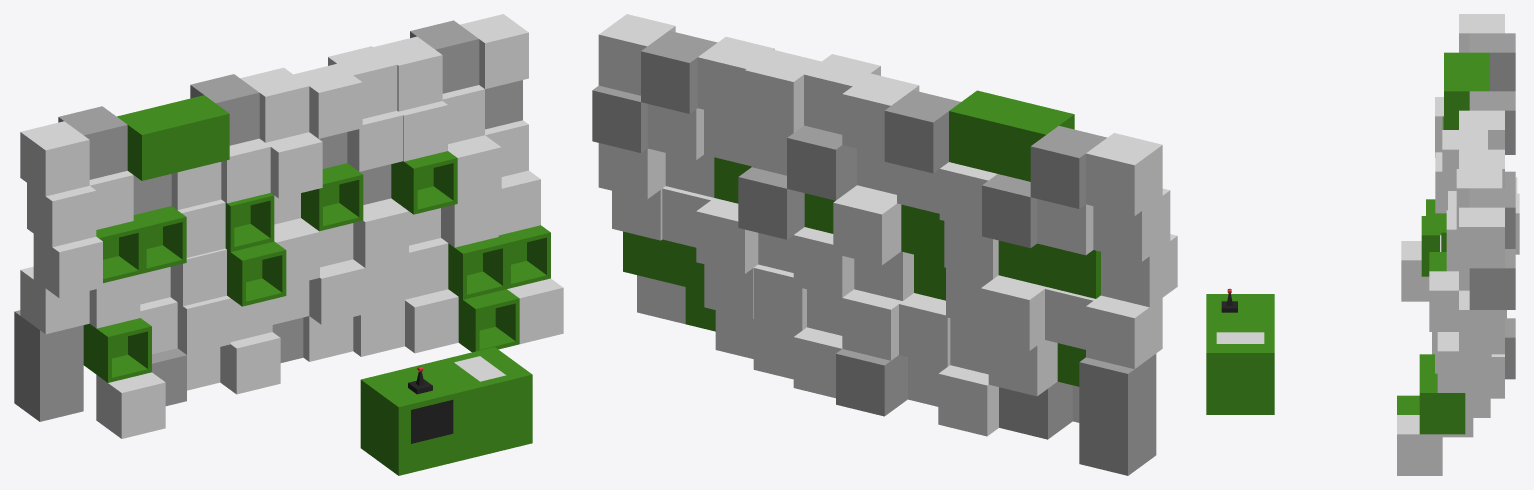
The model's file is Milestones.fbx.
3 renders of one model, left to right at view 1: azimuth 30°, elevation 25°; view 2: azimuth 150°, elevation 25°; view 3: azimuth 270°, elevation 25°, orthographic. The views are drawn at different scales.
Parts seen in each view (by area): view 1: Cube.068, Cube.005, Cube.006, Cube.017, Cube.007, Cube.041, Cube.004, Cube.003, Cube.035, Cube.051, Cube.065, Cube.054 (+55 smaller); view 2: Cube.005, Cube.029, Cube.002, Cube.033, Cube.047, Cube.001, Cube.059, Cube.040, Cube.011, Cube.014, Cube, Cube.030 (+53 smaller); view 3: Cube.068, Cube.065, Cube.062, Cube.060, Cube.061, Cube.064, Cube.063, Cube.011, Cube.057, Cube.023, Cube.041, Cube.006 (+18 smaller).
Part boxes in pixels (left/top/right/bottom): Cube.068: left=360, top=347, right=532, bottom=475; Cube.005: left=20, top=121, right=89, bottom=196; Cube.006: left=96, top=372, right=165, bottom=438; Cube.017: left=117, top=106, right=185, bottom=180; Cube.007: left=83, top=318, right=151, bottom=382; Cube.041: left=293, top=64, right=362, bottom=138; Cube.004: left=27, top=183, right=96, bottom=247; Cube.003: left=33, top=234, right=102, bottom=298; Cube.035: left=240, top=67, right=309, bottom=142; Cube.051: left=391, top=151, right=457, bottom=214; Cube.065: left=460, top=14, right=528, bottom=88; Cube.054: left=458, top=289, right=519, bottom=352; Cube.005: left=1086, top=133, right=1162, bottom=216; Cube.029: left=884, top=90, right=960, bottom=173; Cube.002: left=1086, top=295, right=1162, bottom=368; Cube.033: left=833, top=185, right=901, bottom=265; Cube.047: left=745, top=49, right=821, bottom=132; Cube.001: left=1079, top=354, right=1156, bottom=424; Cube.059: left=641, top=30, right=717, bottom=113; Cube.040: left=787, top=125, right=856, bottom=200; Cube.011: left=1030, top=126, right=1106, bottom=208; Cube.014: left=981, top=275, right=1046, bottom=350; Cube: left=1079, top=405, right=1156, bottom=475; Cube.030: left=836, top=349, right=907, bottom=416; Cube.068: left=1206, top=294, right=1274, bottom=414; Cube.065: left=1459, top=207, right=1504, bottom=268; Cube.062: left=1437, top=332, right=1483, bottom=392; Cube.060: left=1397, top=415, right=1442, bottom=475; Cube.061: left=1419, top=373, right=1465, bottom=434; Cube.064: left=1469, top=249, right=1515, bottom=309; Cube.063: left=1459, top=290, right=1504, bottom=351; Cube.011: left=1469, top=33, right=1515, bottom=91; Cube.057: left=1429, top=271, right=1458, bottom=331; Cube.023: left=1444, top=72, right=1489, bottom=129; Cube.041: left=1442, top=130, right=1487, bottom=190; Cube.006: left=1401, top=241, right=1429, bottom=301.
Size of the model in its own units: 2200 by 1200 by 1369.
